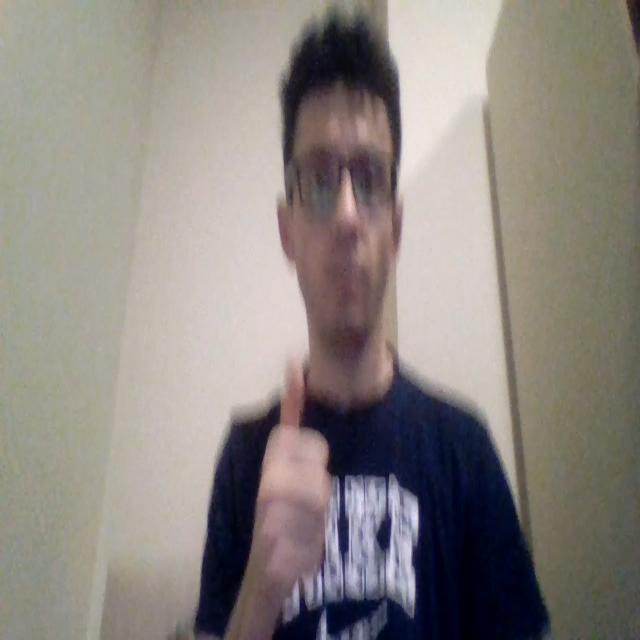help: (247, 356, 336, 591)
